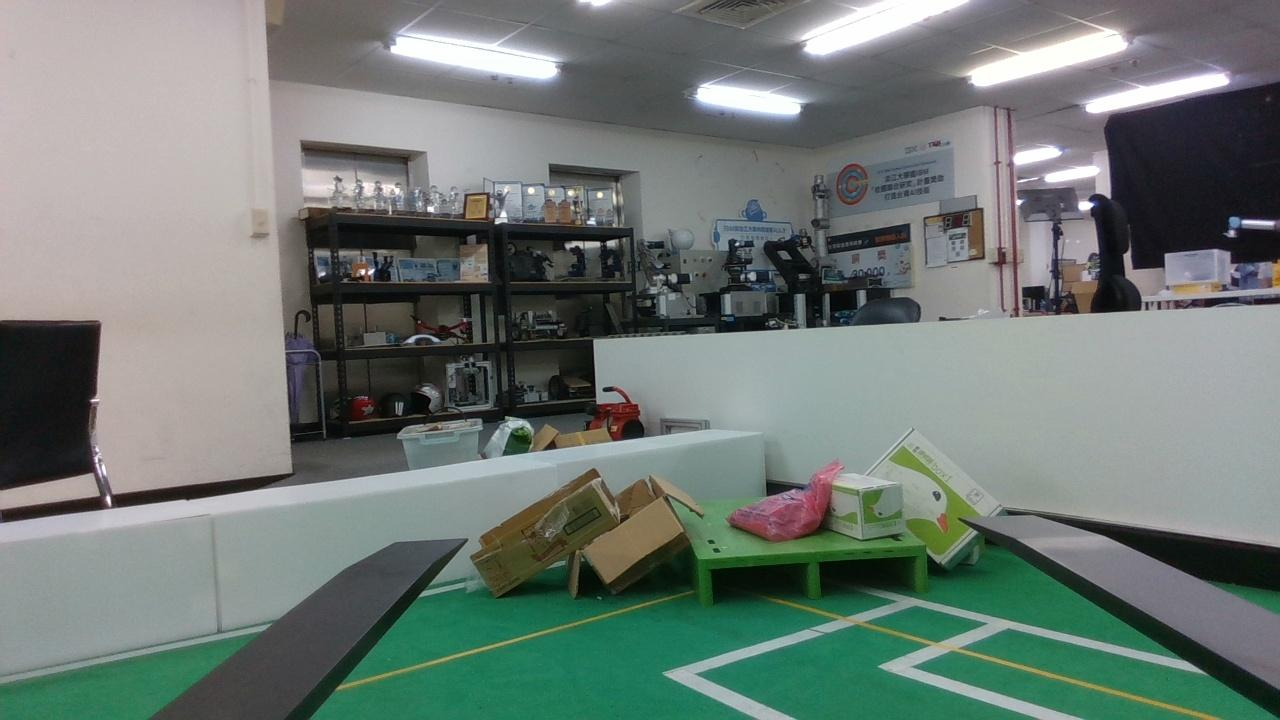Pallet: (700, 543, 930, 605)
